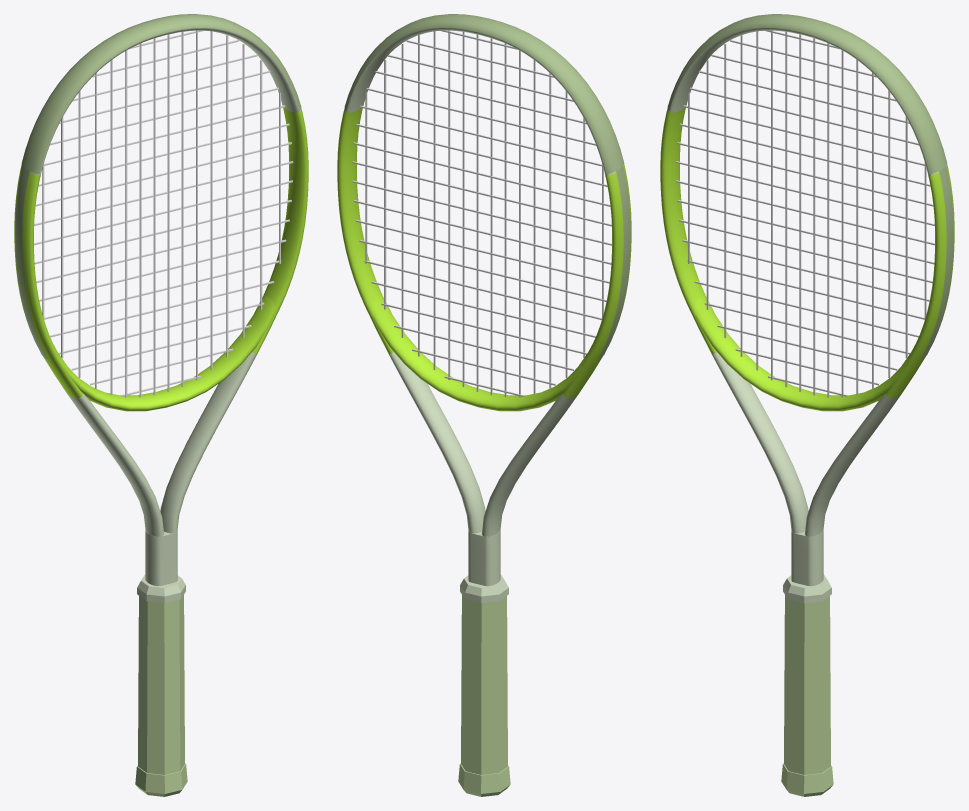
Rendered from head-extreme-mp-2024.glb.
The picture shows the model from 3 angles, left to right: view 1: azimuth 30°, elevation 25°; view 2: azimuth 150°, elevation 25°; view 3: azimuth 330°, elevation 25°; orthographic projection.
Parts seen in each view (by area): view 1: frame, strings_mains, strings_crosses, grip, bumper, grommets, butt_cap, collar; view 2: frame, strings_mains, strings_crosses, grip, bumper, grommets, butt_cap, collar; view 3: frame, strings_mains, strings_crosses, grip, bumper, grommets, butt_cap, collar.
Boxes of the visible parts, x1,y1,x2,y2 form: frame: (14, 27, 308, 586); strings_mains: (42, 30, 280, 397); strings_crosses: (34, 30, 293, 396); grip: (138, 595, 184, 774); bumper: (21, 14, 301, 174); grommets: (15, 166, 47, 358); butt_cap: (135, 763, 187, 796); collar: (137, 574, 185, 603); frame: (337, 27, 631, 586); strings_mains: (365, 30, 603, 397); strings_crosses: (352, 30, 611, 396); grip: (461, 595, 507, 774); bumper: (344, 14, 624, 174); grommets: (598, 166, 630, 358); butt_cap: (458, 763, 510, 796); collar: (460, 574, 508, 603); frame: (660, 27, 954, 586); strings_mains: (688, 30, 926, 397); strings_crosses: (675, 30, 934, 396); grip: (784, 595, 830, 774); bumper: (667, 14, 947, 174); grommets: (921, 166, 953, 358); butt_cap: (781, 763, 833, 796); collar: (783, 574, 831, 603).
Bounding box in the file's own units: 0.2687 × 0.6861 × 0.0396.
